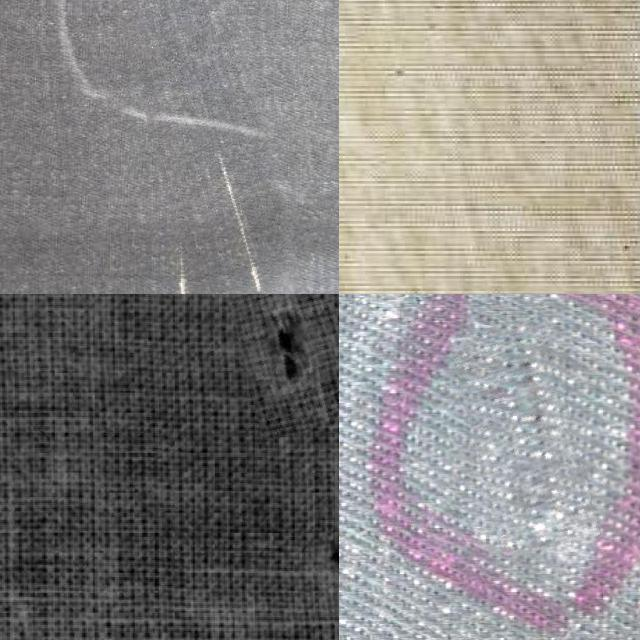other: (235, 294, 339, 436), (300, 505, 339, 640)
stains: (77, 0, 264, 294), (460, 318, 586, 554)
